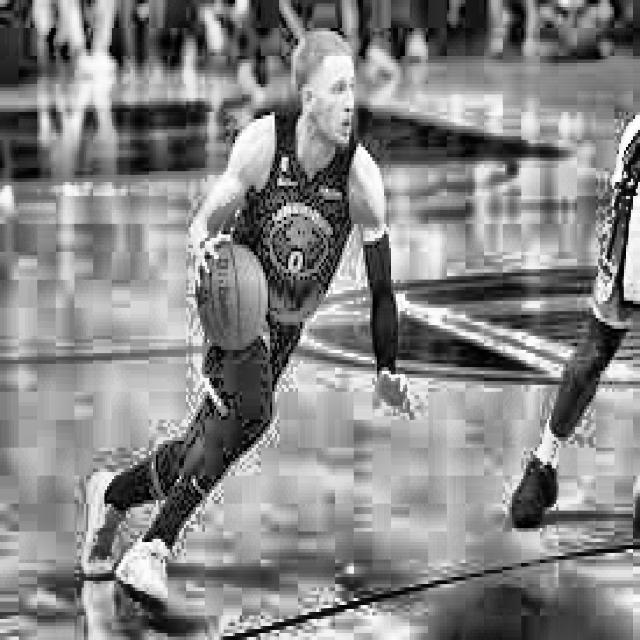Basketball: (198, 241, 268, 350)
